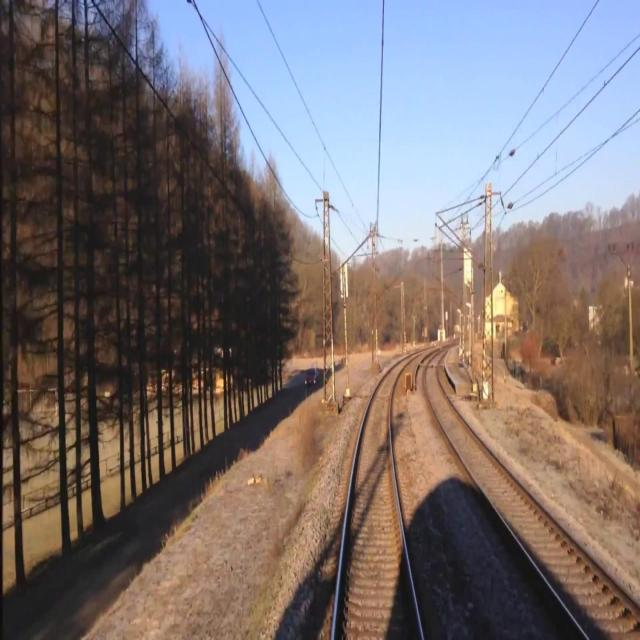rail-track: (426, 354, 640, 639), (335, 361, 420, 639)
